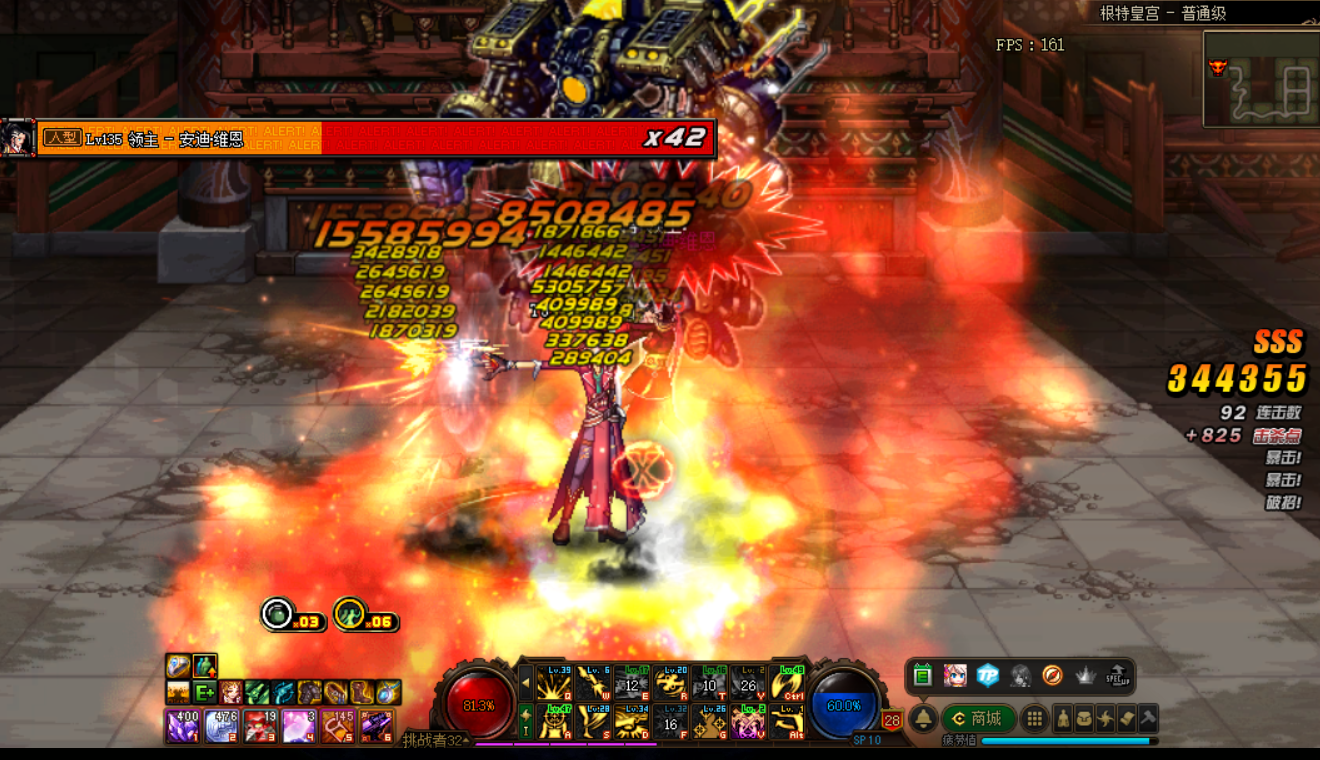boss: (395, 14, 775, 378)
warrior: (483, 313, 648, 554)
